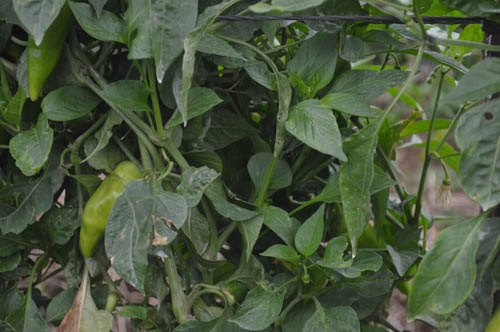ChiliPepper: (78, 164, 142, 258)
